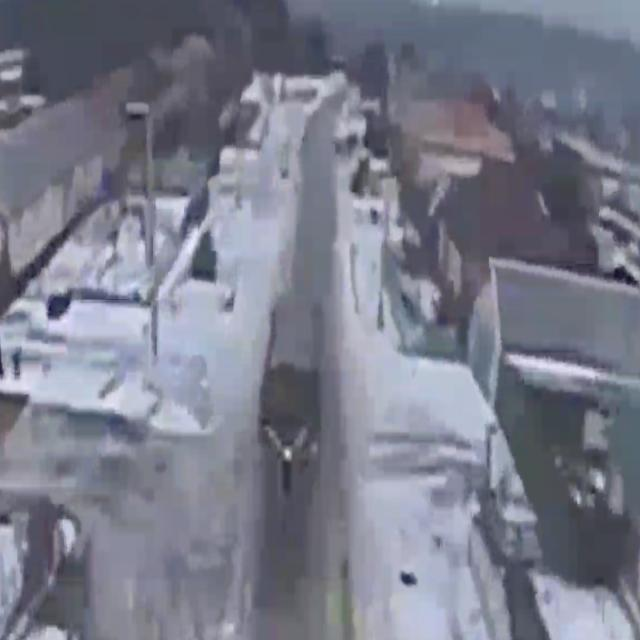vehicle: (257, 292, 326, 454)
